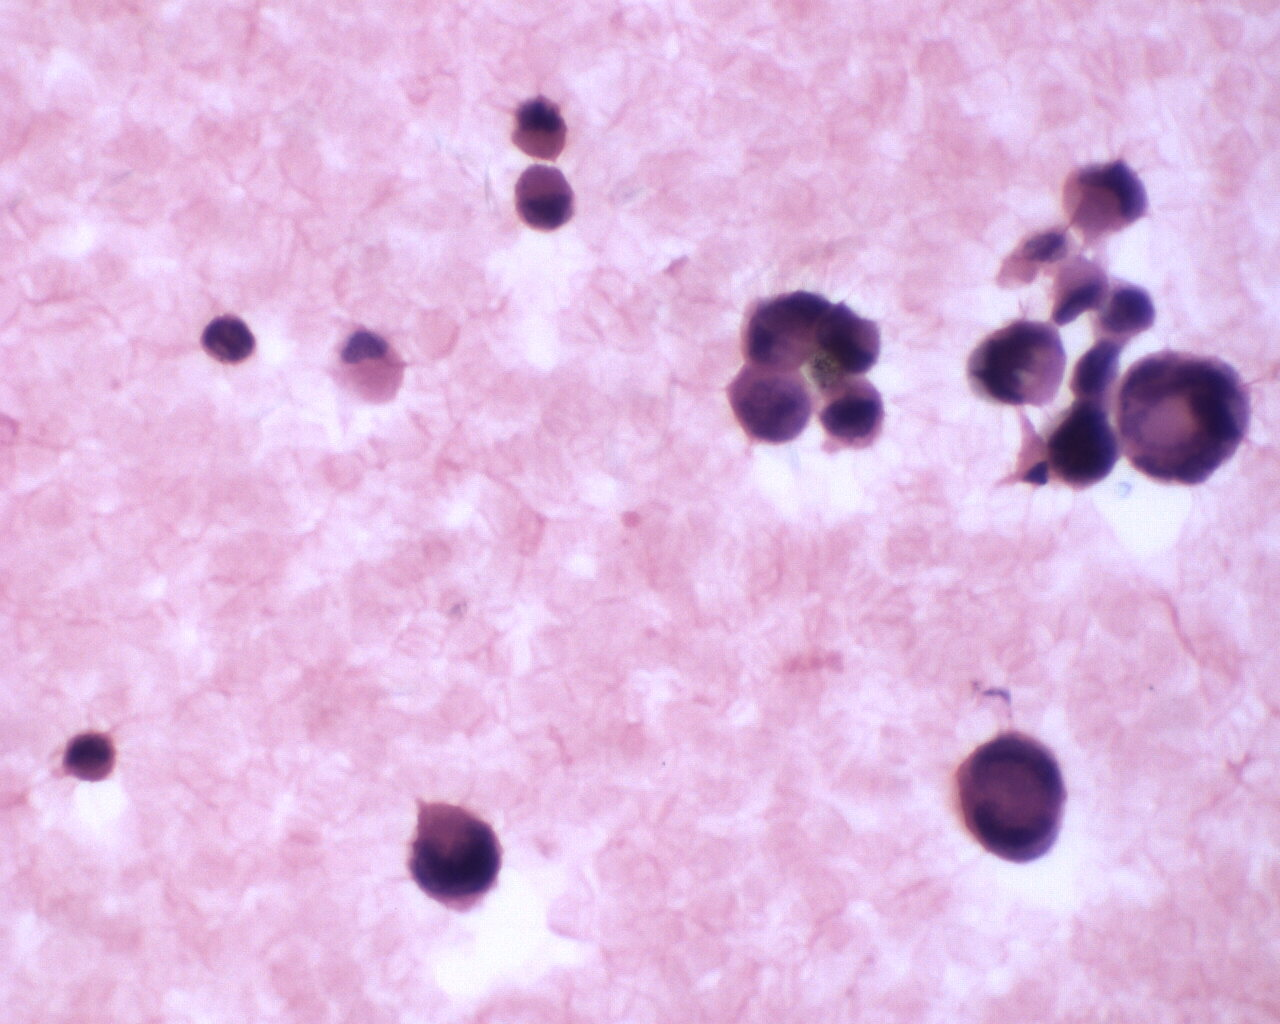ab: (1120, 346, 1254, 489), (953, 727, 1072, 870), (402, 802, 512, 914), (968, 316, 1064, 409), (721, 360, 818, 442), (1043, 406, 1122, 493), (808, 378, 889, 460), (813, 295, 884, 375), (61, 723, 122, 791), (200, 307, 259, 371)
